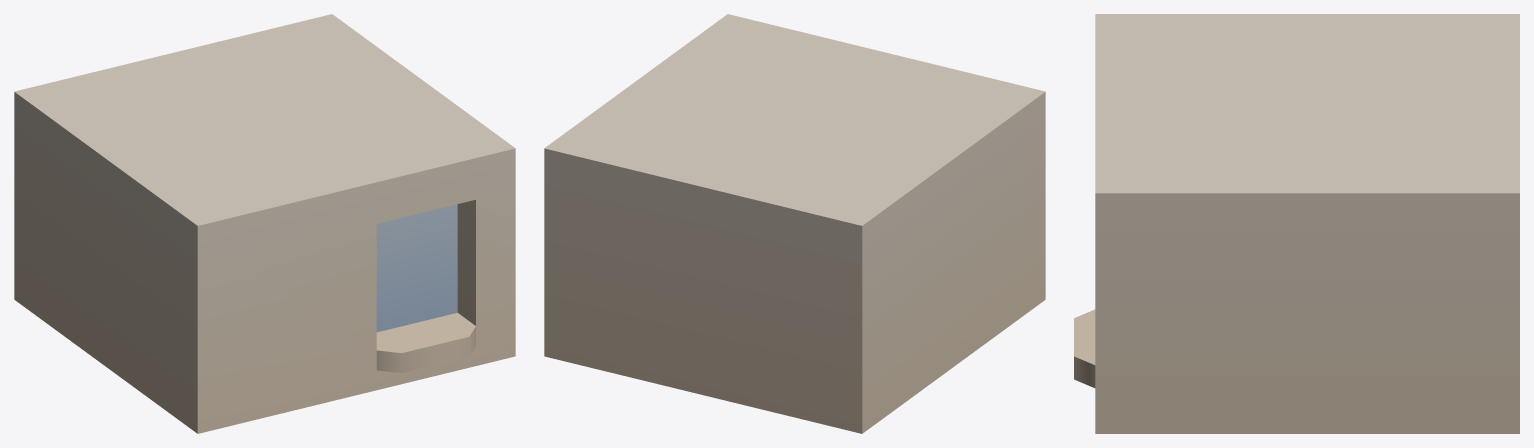
The model's file is building-window-right-sill.glb.
The picture shows the model from 3 angles, left to right: view 1: azimuth 30°, elevation 25°; view 2: azimuth 150°, elevation 25°; view 3: azimuth 270°, elevation 25°; orthographic projection. The views are drawn at different scales.
Visible parts, largest first — view 1: building-window-right-sill; view 2: building-window-right-sill; view 3: building-window-right-sill.
Part boxes in pixels (left/top/right/bottom): building-window-right-sill: left=14, top=14, right=515, bottom=433; building-window-right-sill: left=544, top=14, right=1045, bottom=433; building-window-right-sill: left=1074, top=14, right=1519, bottom=433.
Size of the model in its own units: 1 by 0.625 by 1.05.
